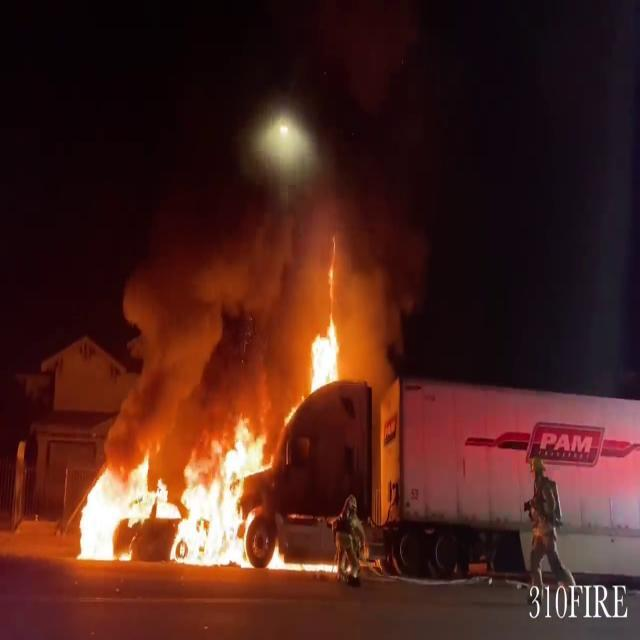Fire: (70, 416, 285, 574), (300, 272, 352, 406)
Smoke: (118, 109, 430, 398)
